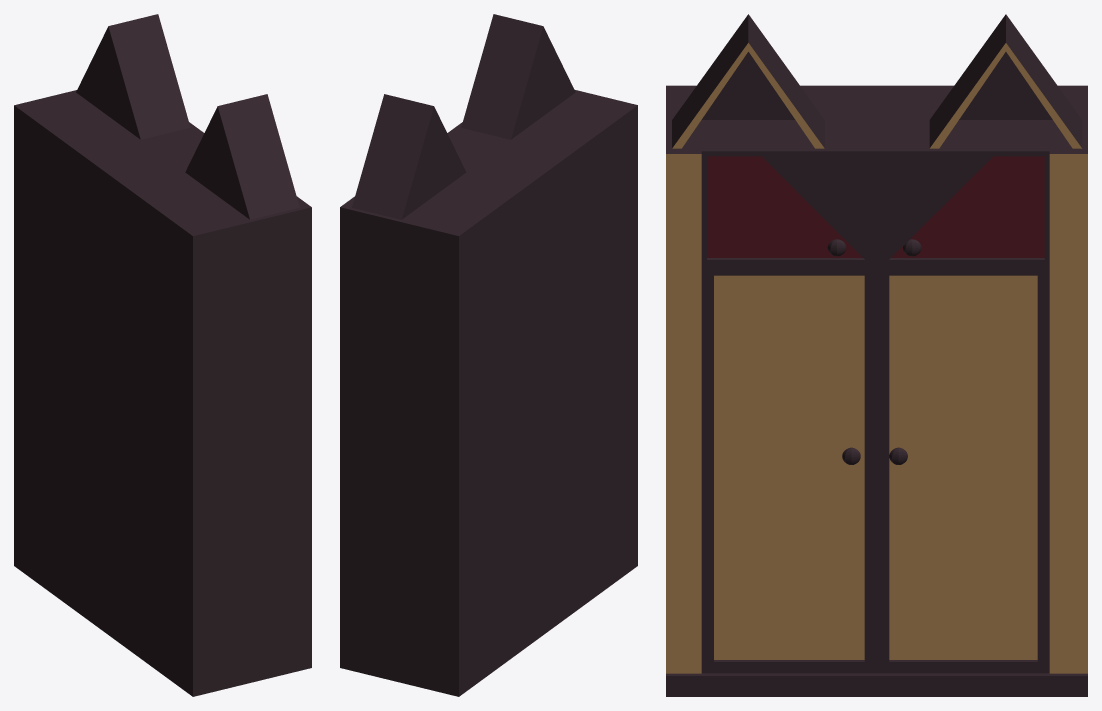
The model's file is LCarmario2.fbx.
3 views of the same model, side by side, from view 1: azimuth 30°, elevation 25°; view 2: azimuth 150°, elevation 25°; view 3: azimuth 270°, elevation 25° (orthographic). The views are drawn at different scales.
Parts seen in each view (by area): view 1: Cube.037_Cube.091; view 2: Cube.037_Cube.091; view 3: Cube.037_Cube.091.
Boxes of the visible parts, bbox=[...] form: Cube.037_Cube.091: bbox=[14, 14, 311, 696]; Cube.037_Cube.091: bbox=[340, 14, 637, 696]; Cube.037_Cube.091: bbox=[666, 14, 1087, 696].
Bounding box in the file's own units: 214 × 948 × 558.
